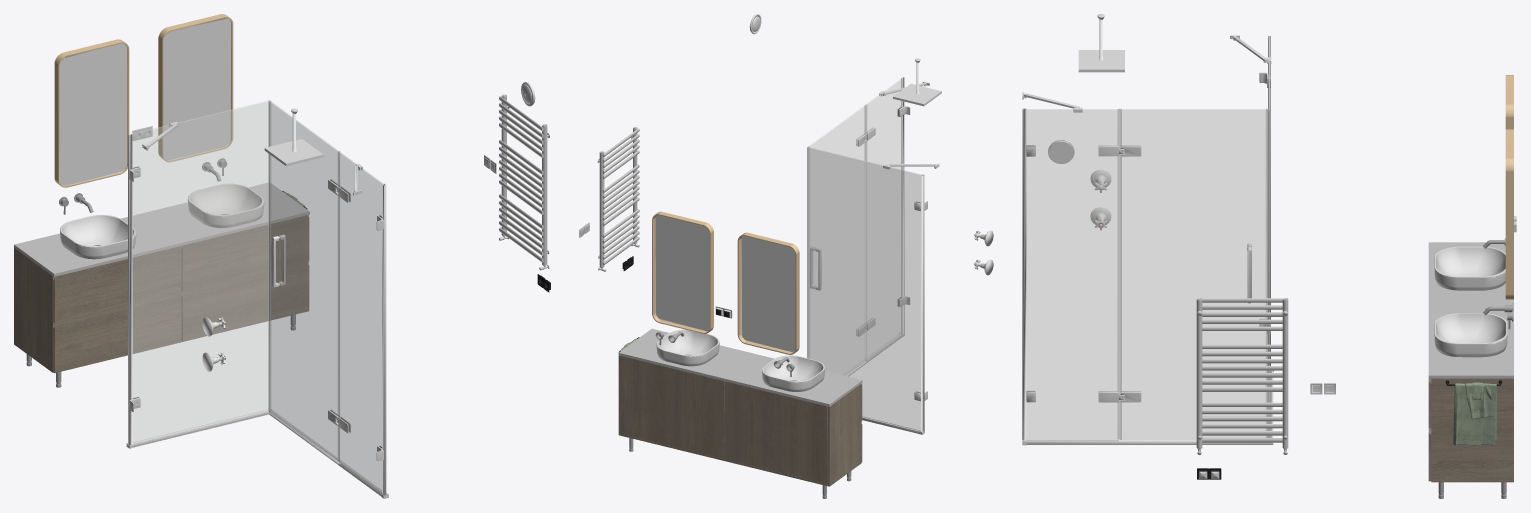
Rendered from salledebain.glb.
3 views of the same model, side by side, from view 1: azimuth 30°, elevation 25°; view 2: azimuth 150°, elevation 25°; view 3: azimuth 270°, elevation 25° (orthographic). The views are drawn at different scales.
Visible parts, largest first — view 1: Bathroom_Showers_Corner_02.001, Bathroom_Units_Set_02.001, Bathroom_Showers_Corner_02, Architectural_Radiators_Bathroom-Modern_04; view 2: Bathroom_Units_Set_02.001, Bathroom_Showers_Corner_02.001, Bathroom_Showers_Corner_02, Architectural_Radiators_Bathroom-Modern_04; view 3: Bathroom_Showers_Corner_02.001, Bathroom_Units_Set_02.001, Bathroom_Showers_Corner_02, Architectural_Radiators_Bathroom-Modern_04, Bathroom_Details_Towels-Rail_01_Towel.
Boxes of the visible parts, left/top/right/bottom form: Bathroom_Showers_Corner_02.001: left=129, top=100, right=384, bottom=493; Bathroom_Units_Set_02.001: left=14, top=14, right=309, bottom=387; Bathroom_Showers_Corner_02: left=126, top=100, right=388, bottom=498; Architectural_Radiators_Bathroom-Modern_04: left=499, top=94, right=549, bottom=270; Bathroom_Units_Set_02.001: left=618, top=211, right=862, bottom=498; Bathroom_Showers_Corner_02.001: left=807, top=77, right=923, bottom=430; Bathroom_Showers_Corner_02: left=807, top=58, right=993, bottom=434; Architectural_Radiators_Bathroom-Modern_04: left=597, top=127, right=639, bottom=271; Bathroom_Showers_Corner_02.001: left=1023, top=36, right=1269, bottom=440; Bathroom_Units_Set_02.001: left=1428, top=75, right=1513, bottom=498; Bathroom_Showers_Corner_02: left=1022, top=14, right=1273, bottom=445; Architectural_Radiators_Bathroom-Modern_04: left=1196, top=298, right=1288, bottom=454; Bathroom_Details_Towels-Rail_01_Towel: left=1452, top=382, right=1497, bottom=445.
Bounding box in the file's own units: 2.61 × 2.4 × 2.69.
Materials: 22 (2 with a texture image).
